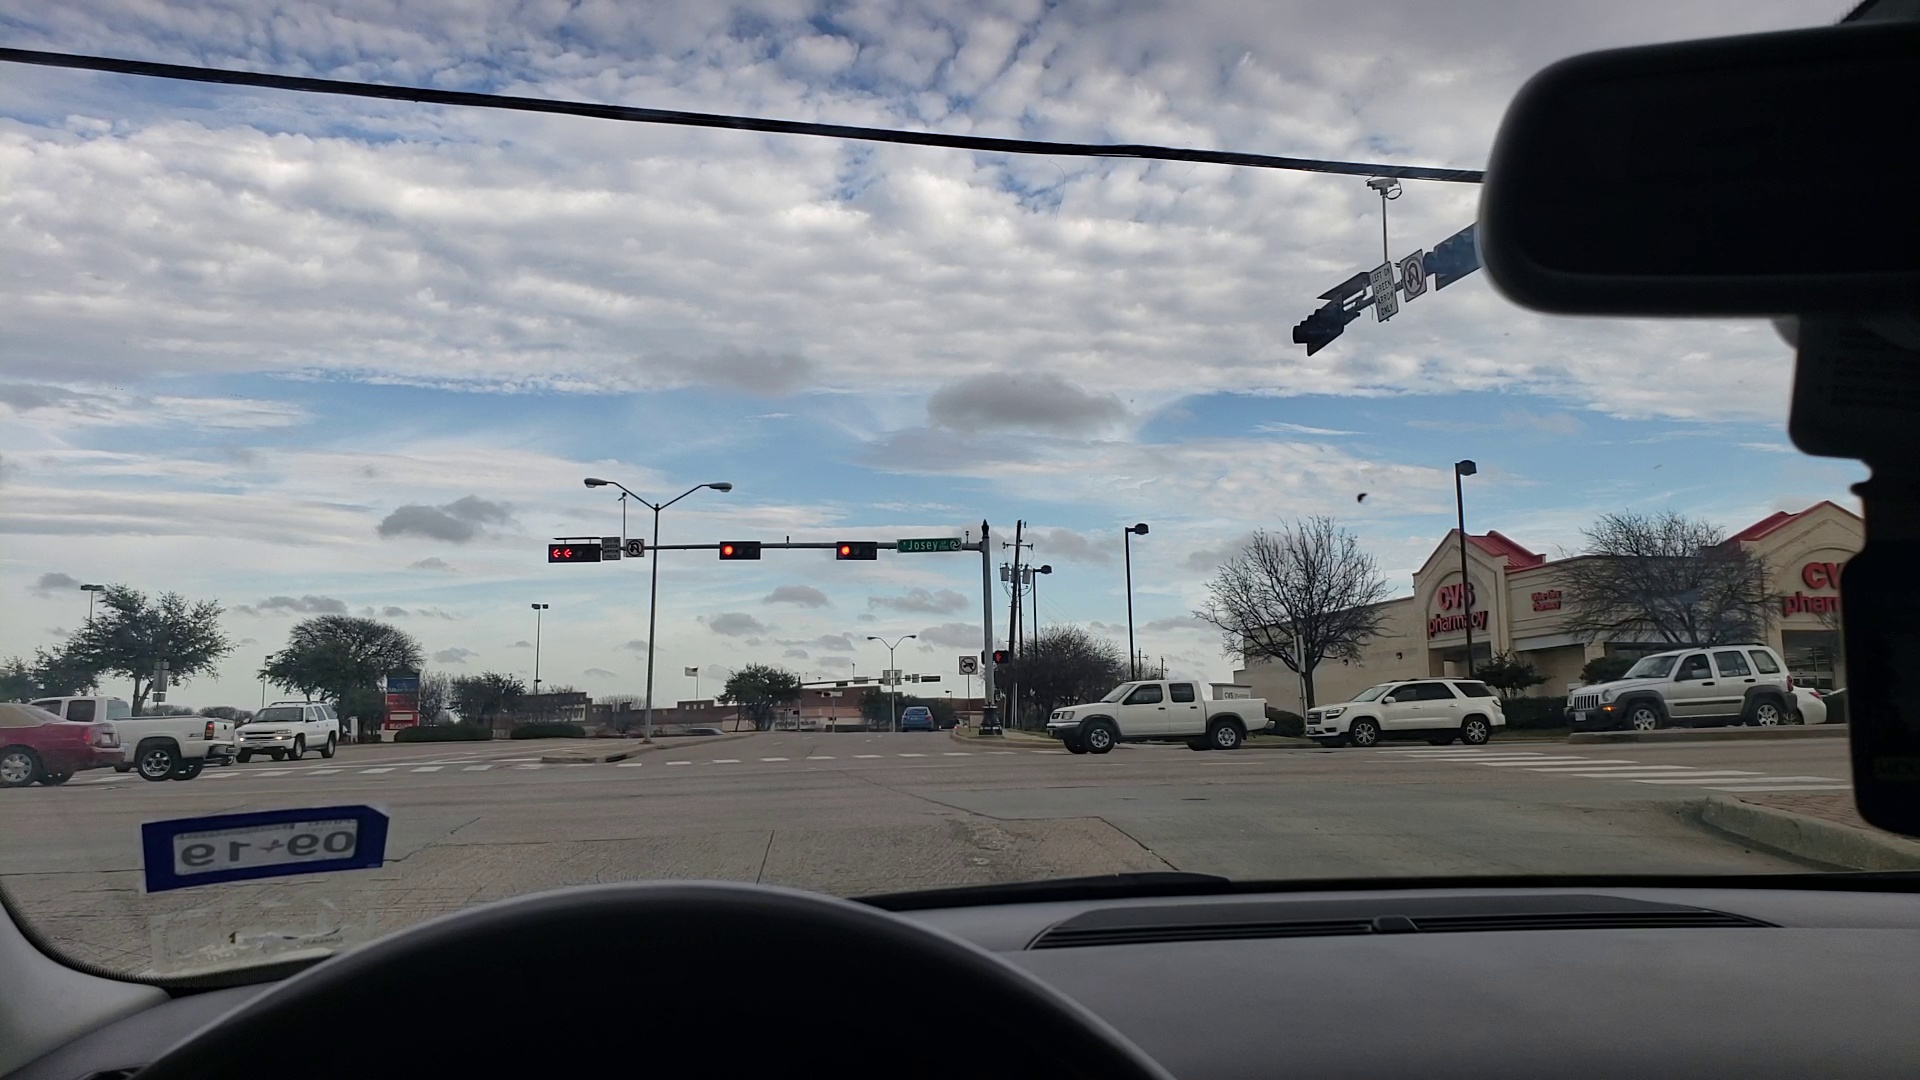car: (1567, 640, 1803, 744), (1317, 674, 1505, 742), (239, 698, 339, 760), (899, 702, 936, 732)
traffic light: (546, 543, 600, 563), (716, 541, 765, 558), (833, 543, 880, 558)
truck: (32, 688, 239, 786), (1054, 670, 1280, 756)
